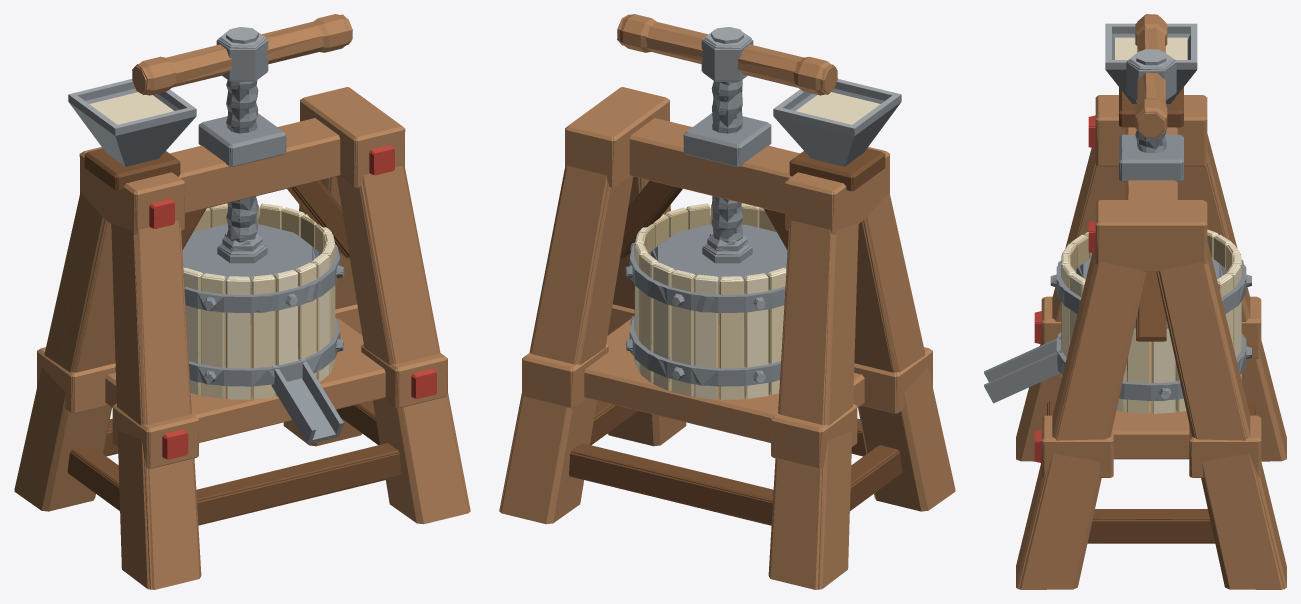
The model's file is FMS_Workshop_STA_10.fbx.
The picture shows the model from 3 angles, left to right: view 1: azimuth 30°, elevation 25°; view 2: azimuth 150°, elevation 25°; view 3: azimuth 270°, elevation 25°; orthographic projection. The views are drawn at different scales.
Parts seen in each view (by area): view 1: FMS_Workshop_STA_10_Frame, FMS_Workshop_STA_10_Frame_Low1, FMS_Workshop_STA_10_Chamber, FMS_Workshop_STA_10_Screw, FMS_Workshop_STA_10_Screw_Low1, FMS_Workshop_STA_10_Plate, FMS_Workshop_STA_10_Chamber_Low1; view 2: FMS_Workshop_STA_10_Frame, FMS_Workshop_STA_10_Frame_Low1, FMS_Workshop_STA_10_Chamber, FMS_Workshop_STA_10_Screw, FMS_Workshop_STA_10_Screw_Low1, FMS_Workshop_STA_10_Plate, FMS_Workshop_STA_10_Chamber_Low1; view 3: FMS_Workshop_STA_10_Frame, FMS_Workshop_STA_10_Frame_Low1, FMS_Workshop_STA_10_Chamber, FMS_Workshop_STA_10_Screw, FMS_Workshop_STA_10_Screw_Low1, FMS_Workshop_STA_10_Chamber_Low1.
Part boxes in pixels (x1,y1,x2,y2): FMS_Workshop_STA_10_Frame: (14, 79, 470, 589); FMS_Workshop_STA_10_Frame_Low1: (14, 80, 470, 589); FMS_Workshop_STA_10_Chamber: (183, 203, 344, 444); FMS_Workshop_STA_10_Screw: (132, 14, 352, 242); FMS_Workshop_STA_10_Screw_Low1: (132, 14, 352, 241); FMS_Workshop_STA_10_Plate: (182, 224, 319, 293); FMS_Workshop_STA_10_Chamber_Low1: (184, 203, 344, 443); FMS_Workshop_STA_10_Frame: (499, 79, 955, 589); FMS_Workshop_STA_10_Frame_Low1: (499, 79, 955, 589); FMS_Workshop_STA_10_Chamber: (625, 203, 786, 399); FMS_Workshop_STA_10_Screw: (617, 14, 837, 242); FMS_Workshop_STA_10_Screw_Low1: (617, 14, 837, 238); FMS_Workshop_STA_10_Plate: (650, 224, 787, 293); FMS_Workshop_STA_10_Chamber_Low1: (625, 204, 786, 399); FMS_Workshop_STA_10_Frame: (1016, 23, 1286, 589); FMS_Workshop_STA_10_Frame_Low1: (1016, 24, 1286, 589); FMS_Workshop_STA_10_Chamber: (984, 229, 1251, 413); FMS_Workshop_STA_10_Screw: (1126, 15, 1176, 153); FMS_Workshop_STA_10_Screw_Low1: (1127, 14, 1175, 152); FMS_Workshop_STA_10_Chamber_Low1: (984, 233, 1251, 413).
Bounding box in the file's own units: 1.01 × 1.4 × 0.8405.
